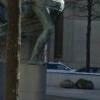Statue: (23, 2, 74, 63)
